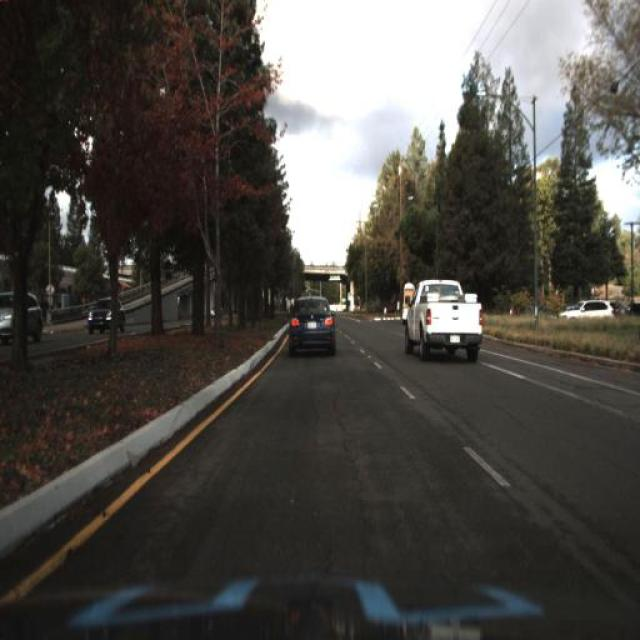car: (396, 270, 490, 365), (284, 284, 336, 354), (560, 285, 618, 330), (0, 288, 44, 344), (82, 291, 127, 339), (556, 298, 620, 320), (84, 299, 116, 339)
